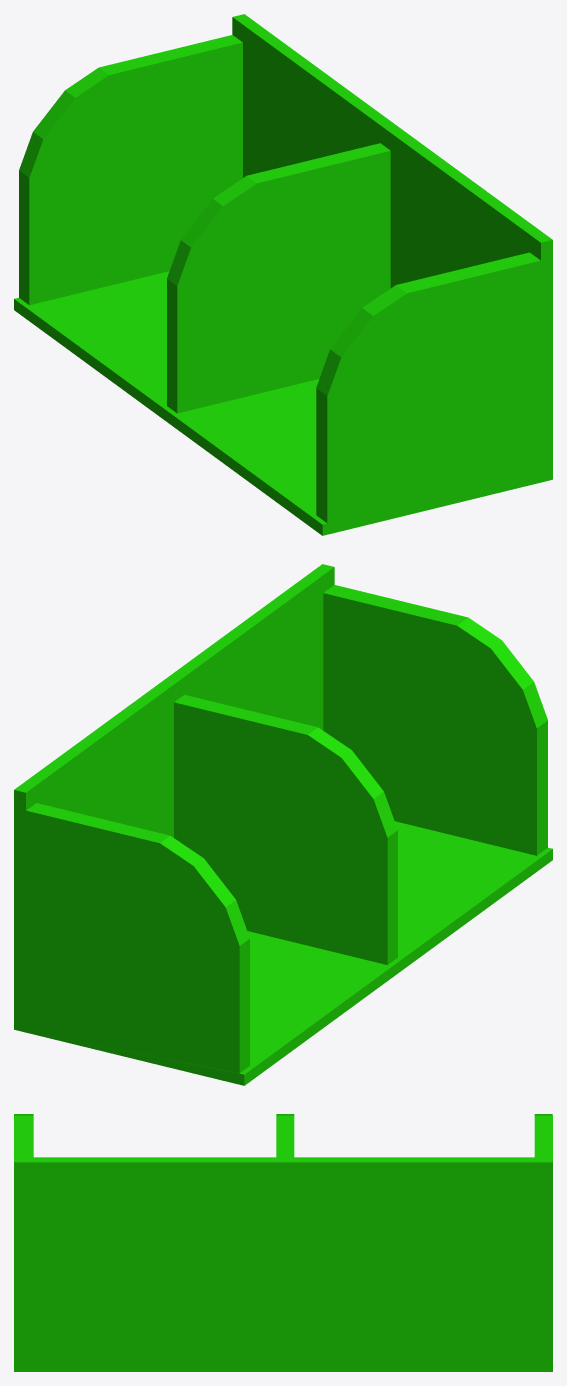
The model's file is SM_Shelf_09_Collider.fbx.
3 views of the same model, one above another, from view 1: azimuth 30°, elevation 25°; view 2: azimuth 150°, elevation 25°; view 3: azimuth 270°, elevation 25° (orthographic). The views are drawn at different scales.
Parts seen in each view (by area): view 1: SM_Shelf_09_Collider; view 2: SM_Shelf_09_Collider; view 3: SM_Shelf_09_Collider.
Boxes of the visible parts, x1=… form: SM_Shelf_09_Collider: x1=14, y1=14, x2=552, y2=535; SM_Shelf_09_Collider: x1=14, y1=564, x2=552, y2=1085; SM_Shelf_09_Collider: x1=14, y1=1114, x2=552, y2=1371.
Size of the model in its own units: 38.97 by 38.75 by 90.36.
